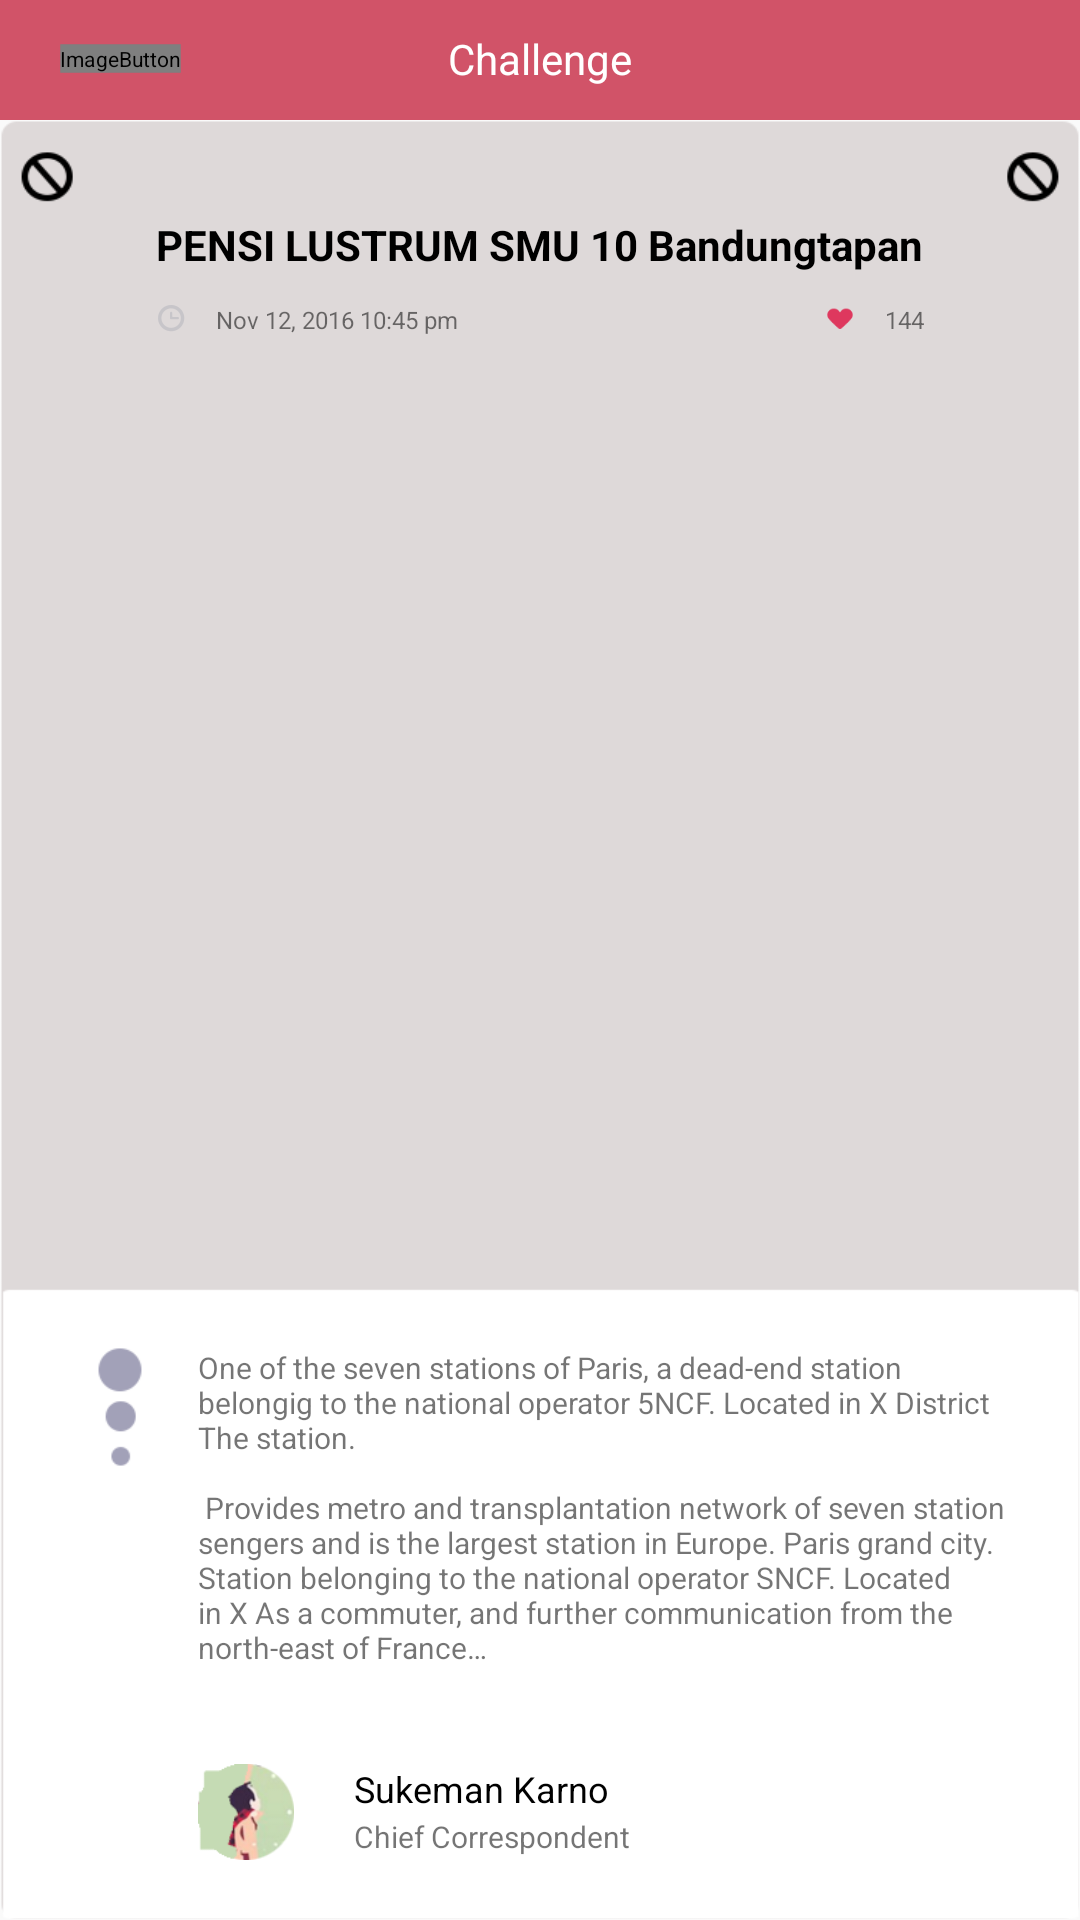

Where icons sit on this 1080px x 1920px app screen, as (left=x1, top=y1, right=x2, bottom=y2):
news article author: (left=198, top=1764, right=294, bottom=1860)
news article favourite: (left=827, top=308, right=853, bottom=329)
